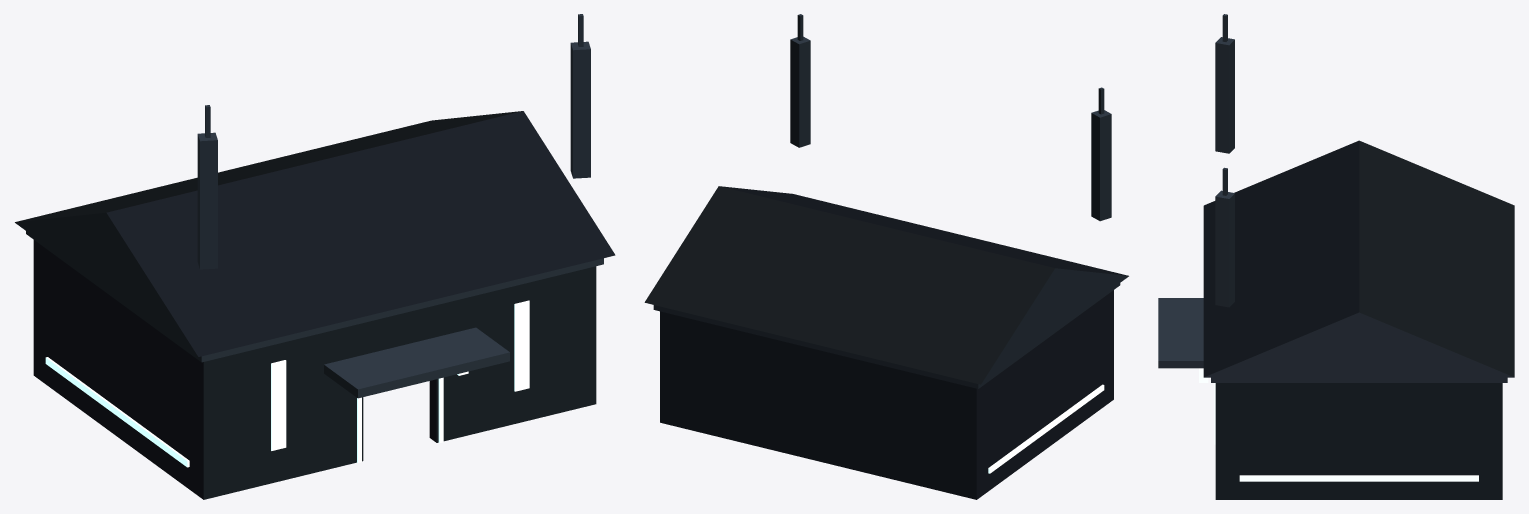
File: shaddai_dist_darkforest_b1_v01.glb
3 views of the same model, side by side, from view 1: azimuth 30°, elevation 25°; view 2: azimuth 150°, elevation 25°; view 3: azimuth 270°, elevation 25° (orthographic). The views are drawn at different scales.
Parts seen in each view (by area): view 1: shaddai_dist_darkforest_b1; view 2: shaddai_dist_darkforest_b1; view 3: shaddai_dist_darkforest_b1.
Boxes of the visible parts, x1,y1,x2,y2 form: shaddai_dist_darkforest_b1: (15,14,615,499); shaddai_dist_darkforest_b1: (644,14,1128,499); shaddai_dist_darkforest_b1: (1158,14,1514,499).
Bounding box in the file's own units: 17 × 15.08 × 14.9.
